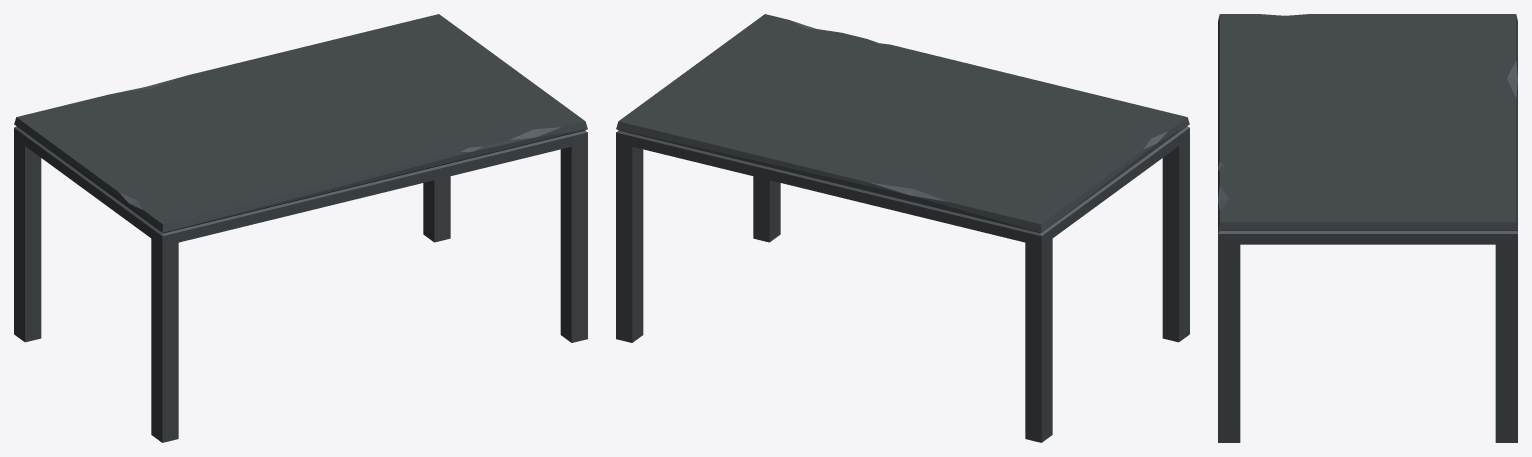
Rendered from SM_Prop_DiningTable_02.fbx.
The picture shows the model from 3 angles, left to right: view 1: azimuth 30°, elevation 25°; view 2: azimuth 150°, elevation 25°; view 3: azimuth 270°, elevation 25°; orthographic projection.
Parts seen in each view (by area): view 1: SM_Prop_DiningTable_02; view 2: SM_Prop_DiningTable_02; view 3: SM_Prop_DiningTable_02.
Boxes of the visible parts, left/top/right/bottom form: SM_Prop_DiningTable_02: left=14, top=14, right=587, bottom=442; SM_Prop_DiningTable_02: left=616, top=14, right=1189, bottom=442; SM_Prop_DiningTable_02: left=1218, top=14, right=1517, bottom=442.
Bounding box in the file's own units: 210 × 103 × 127.
